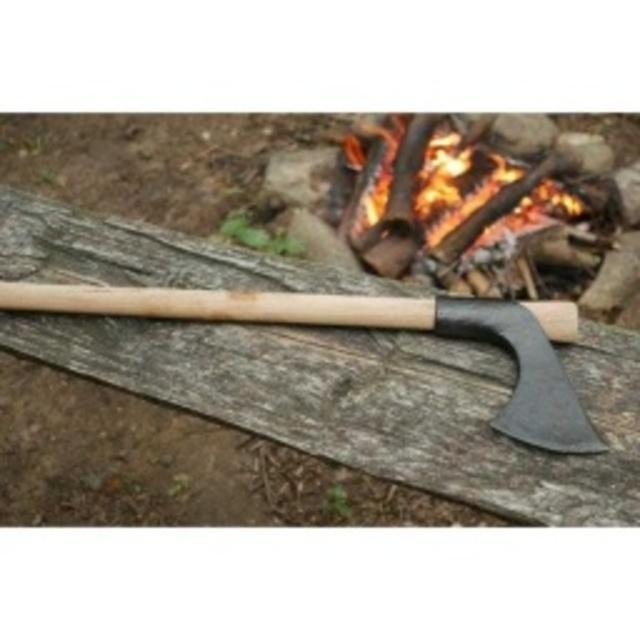ax: (0, 270, 622, 467)
